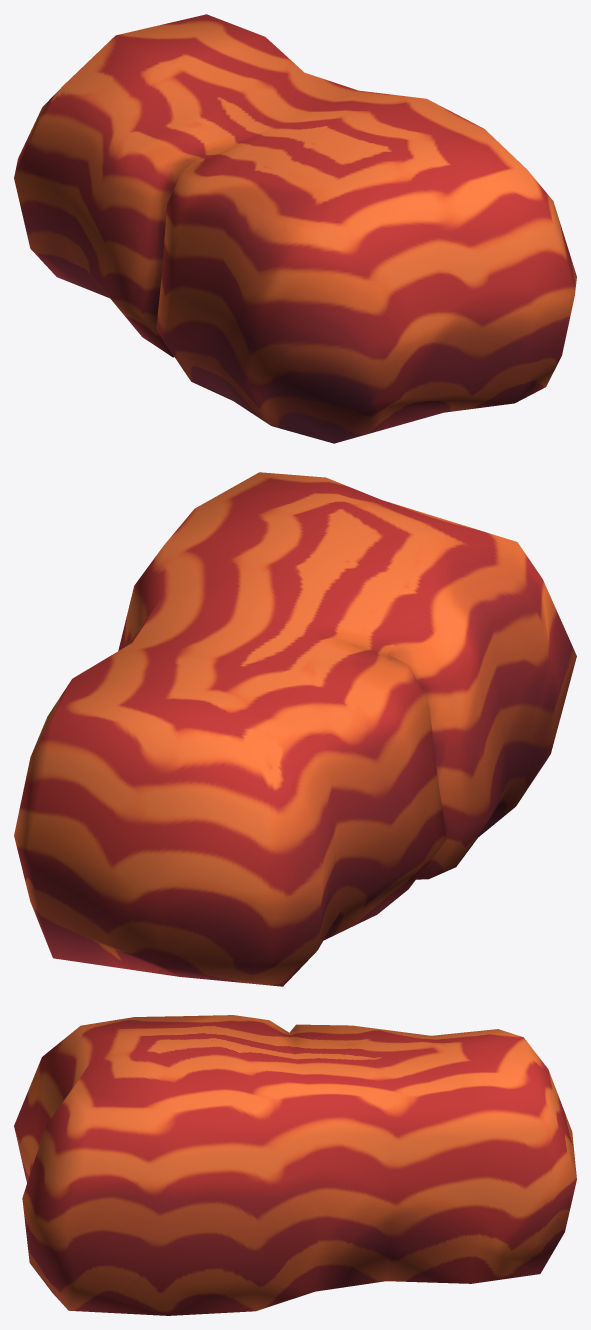
File: rock_E.fbx
3 views of the same model, one above another, from view 1: azimuth 30°, elevation 25°; view 2: azimuth 150°, elevation 25°; view 3: azimuth 270°, elevation 25° (orthographic). The views are drawn at different scales.
Visible parts, largest first — view 1: polySurface165; view 2: polySurface165; view 3: polySurface165.
Part boxes in pixels (x1,y1,x2,y2): polySurface165: [14, 14, 576, 443]; polySurface165: [14, 472, 576, 986]; polySurface165: [14, 1015, 576, 1315].
Size of the model in its own units: 74.28 by 49.93 by 121.
